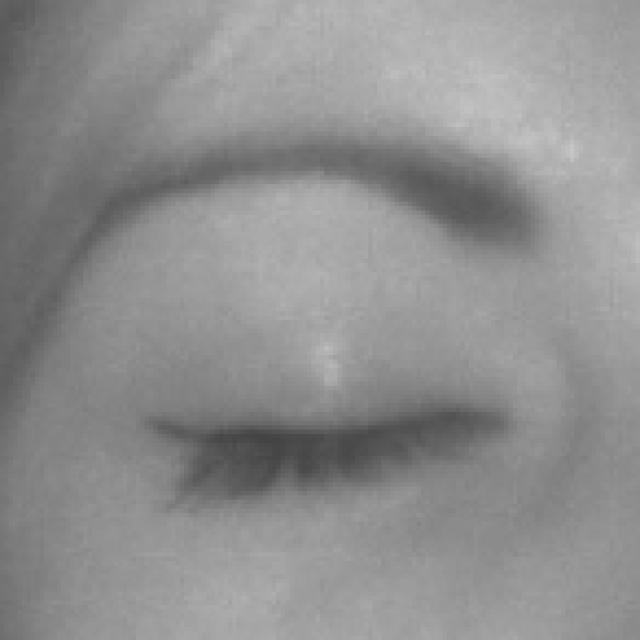Eyeclosed: (135, 274, 511, 625)
